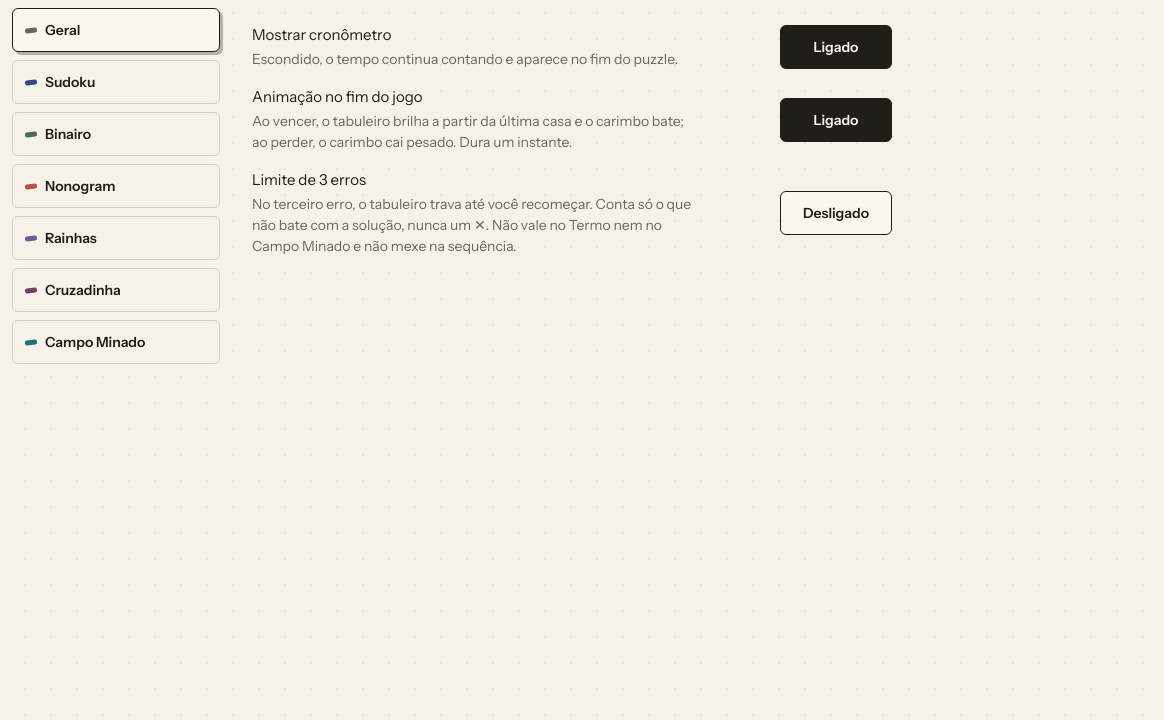
Scenario: the Jogos tabs follow the WAI-ARIA tabs pattern (T-WEB-S1085) › a click selects a tab and shows only that game's settings
This screenshot has width=1164, height=720.
Click the tab "Rainhas" at (116, 238), box [12, 216, 220, 260]
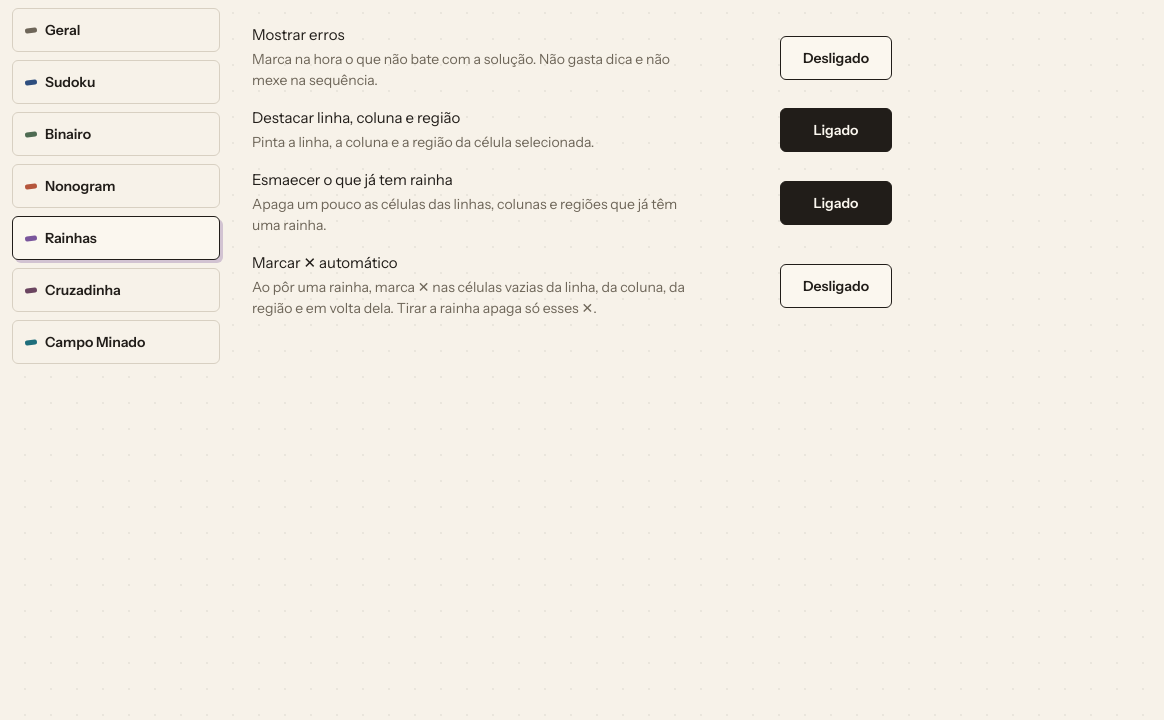
Expected: the element "Em todos os jogos" is not shown
Now the number of switches is 4, box [780, 36, 892, 80]; [780, 108, 892, 152]; [780, 180, 892, 224]; [780, 264, 892, 308]
